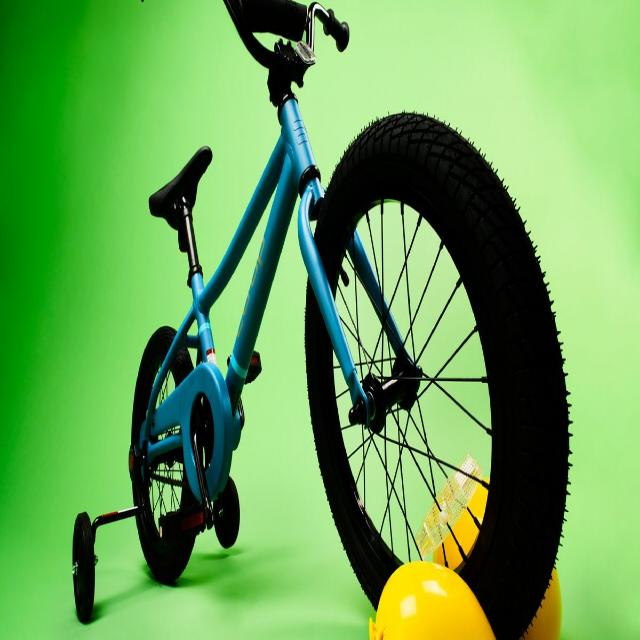bicycle: (44, 0, 591, 640)
